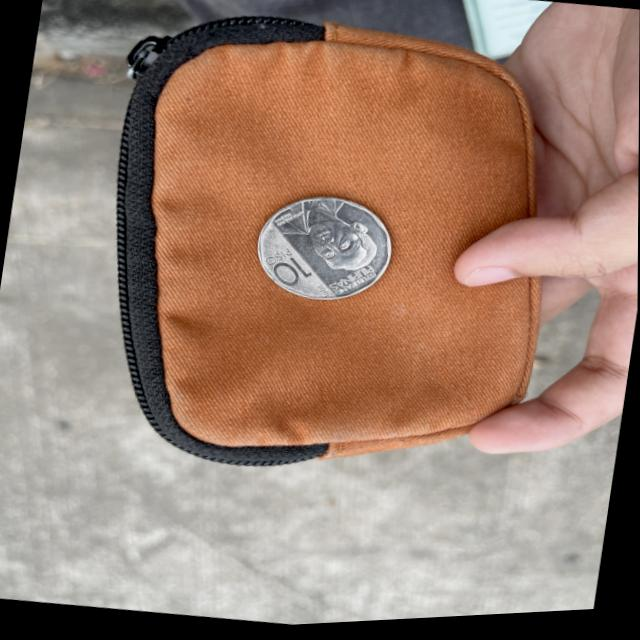10_New_Front: (253, 239, 326, 299)
